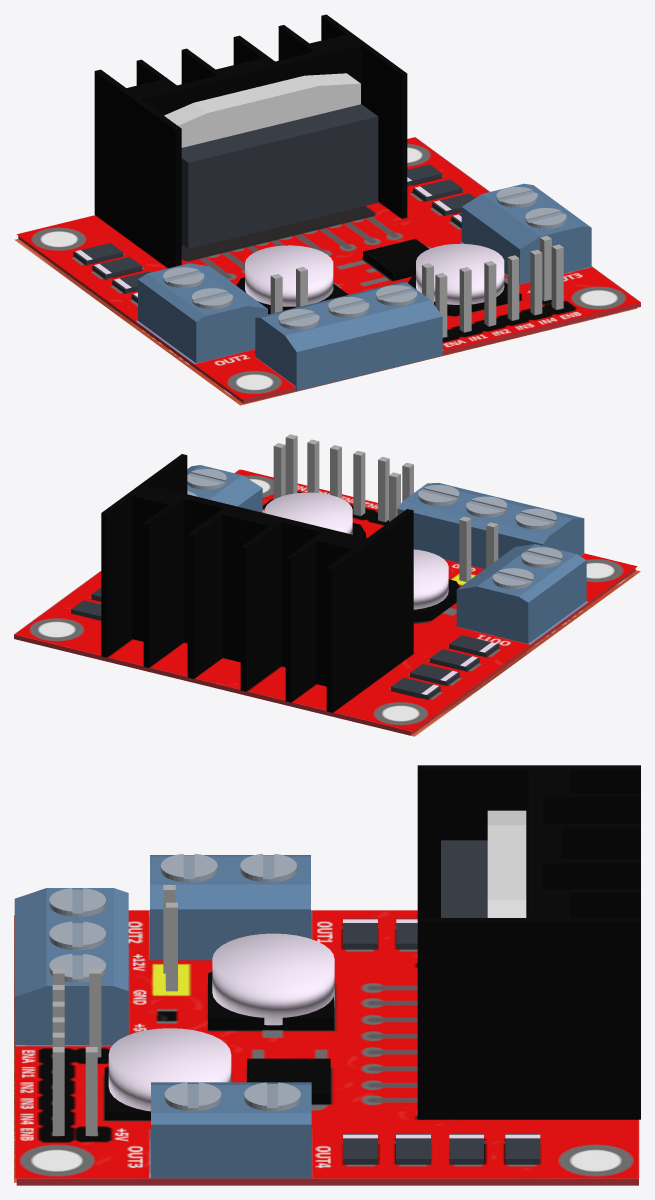
File: L298N motor driver.glb
3 renders of one model, top to bottom at view 1: azimuth 30°, elevation 25°; view 2: azimuth 150°, elevation 25°; view 3: azimuth 270°, elevation 25°, orthographic. The views are drawn at different scales.
Visible parts, largest first — view 1: Plane, motor top, Cube.025, Cube.011, Cylinder.004, Cube.026, Cube.001, Cylinder.008, Cylinder, Cube, motor bottom, Cube.014 (+15 smaller); view 2: Plane, motor top, Cylinder.004, Cube.011, Cube, Cylinder, Cylinder.008, Cube.001, motor bottom, Cube.023, Cube.018, Cube.021 (+16 smaller); view 3: Plane, motor top, Cylinder.004, Cube.001, Cube.011, Cylinder.008, Cylinder, Cube, Cube.026, Cube.025, Cube.014, Cube.013 (+16 smaller).
Boxes of the visible parts, bbox=[...] form: Plane: bbox=[94, 14, 407, 268]; motor top: bbox=[17, 137, 639, 399]; Cube.025: bbox=[181, 104, 378, 248]; Cube.011: bbox=[255, 282, 442, 390]; Cylinder.004: bbox=[138, 263, 267, 363]; Cube.026: bbox=[164, 73, 360, 147]; Cube.001: bbox=[461, 183, 591, 283]; Cylinder.008: bbox=[245, 245, 333, 306]; Cylinder: bbox=[416, 243, 504, 304]; Cube: bbox=[18, 137, 640, 403]; motor bottom: bbox=[14, 239, 637, 405]; Cube.014: bbox=[363, 239, 428, 280]; Plane: bbox=[101, 454, 413, 712]; motor top: bbox=[15, 469, 637, 731]; Cylinder.004: bbox=[456, 544, 586, 643]; Cube.011: bbox=[397, 483, 584, 568]; Cube: bbox=[14, 469, 635, 735]; Cylinder: bbox=[264, 492, 352, 534]; Cylinder.008: bbox=[413, 549, 448, 609]; Cube.001: bbox=[187, 465, 262, 512]; motor bottom: bbox=[411, 570, 640, 736]; Cube.023: bbox=[459, 516, 471, 581]; Cube.018: bbox=[353, 450, 365, 516]; Cube.021: bbox=[285, 434, 297, 494]; Plane: bbox=[417, 765, 640, 1119]; motor top: bbox=[15, 910, 639, 1178]; Cylinder.004: bbox=[150, 853, 310, 960]; Cube.001: bbox=[151, 1082, 311, 1178]; Cube.011: bbox=[14, 888, 128, 1050]; Cylinder.008: bbox=[212, 933, 334, 1025]; Cylinder: bbox=[108, 1028, 231, 1111]; Cube: bbox=[16, 1178, 638, 1185]; Cube.026: bbox=[487, 810, 526, 917]; Cube.025: bbox=[441, 840, 487, 917]; Cube.014: bbox=[247, 1058, 330, 1103]; Cube.013: bbox=[208, 972, 333, 1030].
Bounding box in the file's own units: 0.9611 × 0.3405 × 0.9419.
10 materials, 2 textured.
